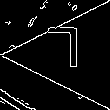L_S: (56, 30, 91, 80)
